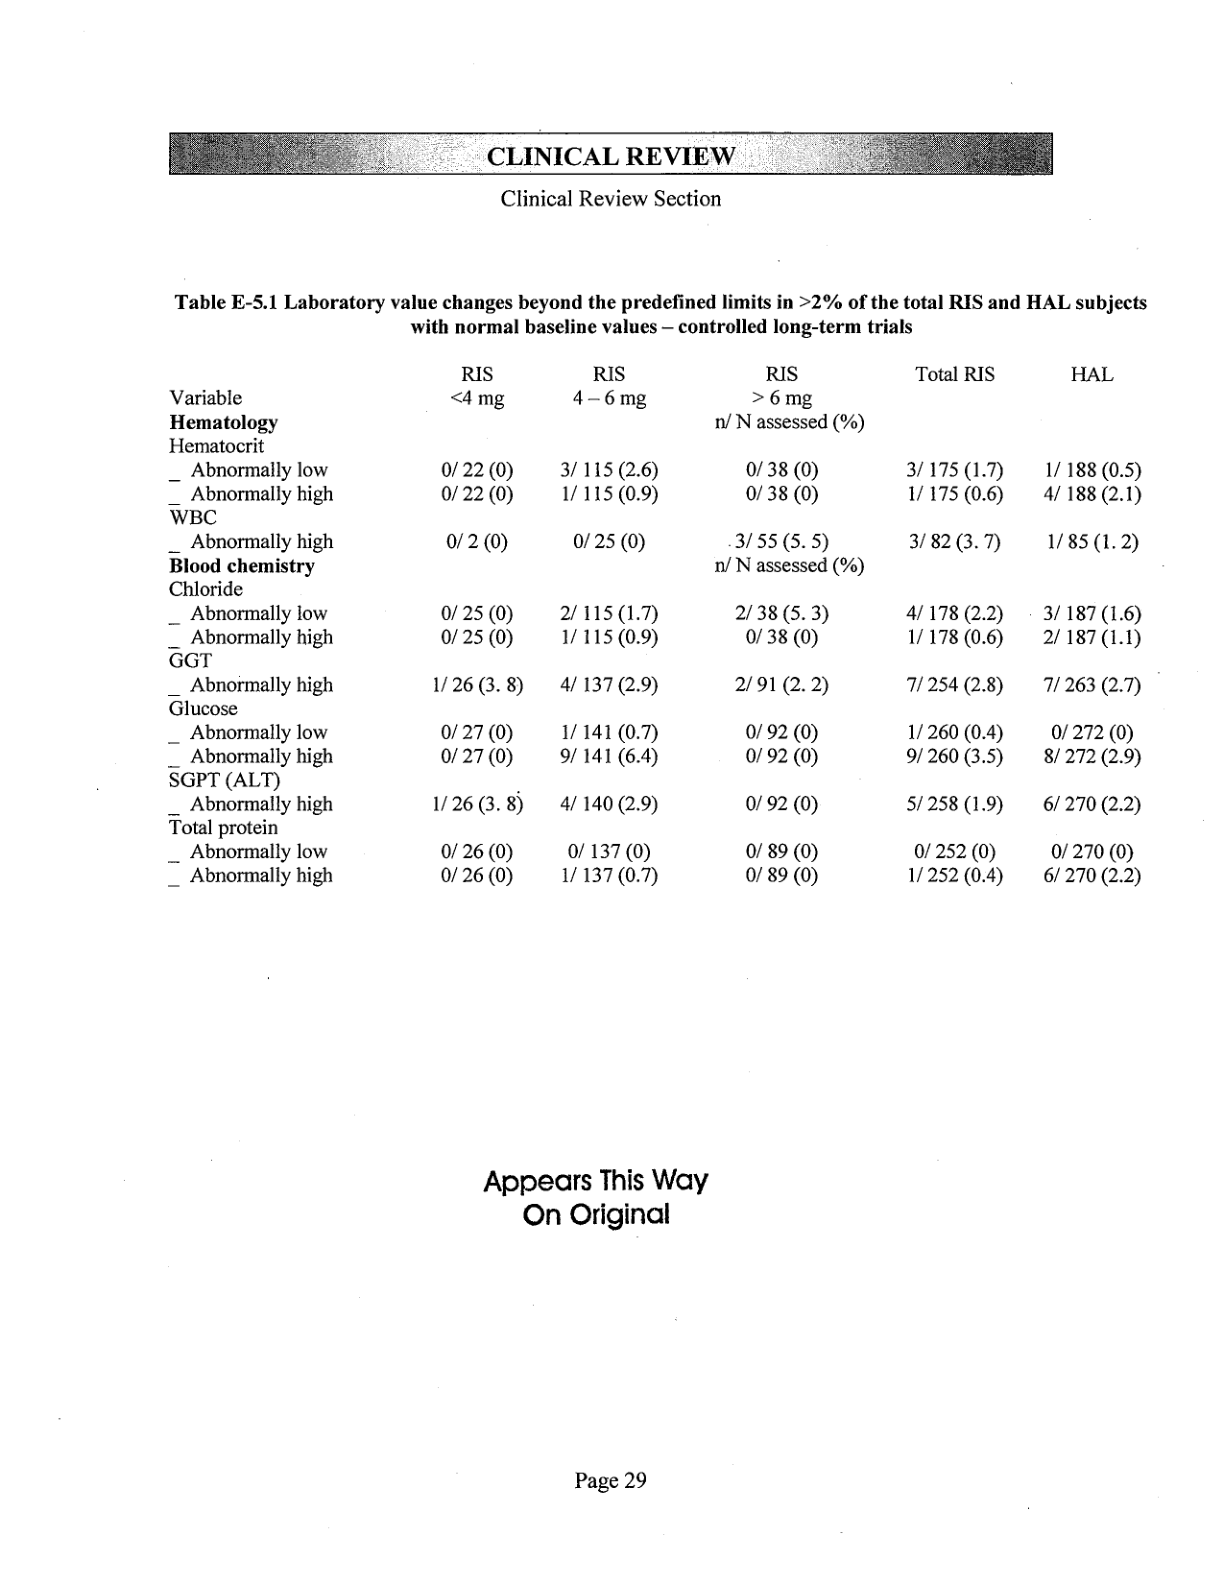nolines: (165, 363, 1144, 888)
